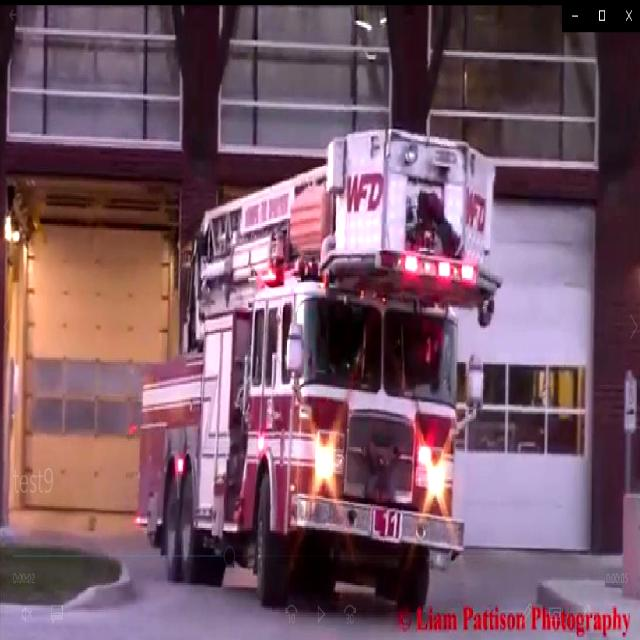emergency: (136, 118, 508, 616)
